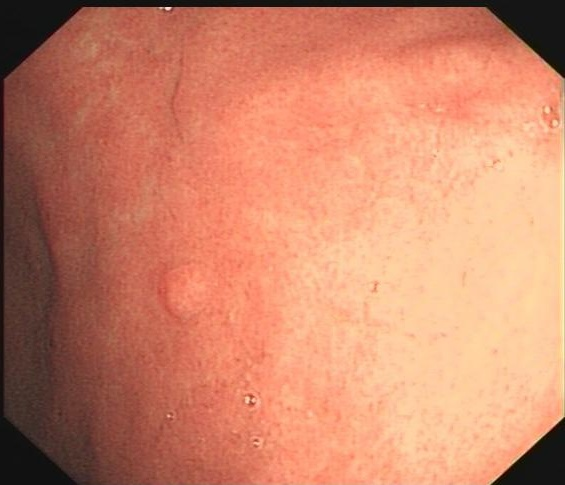Polyp: (147, 250, 235, 348)
